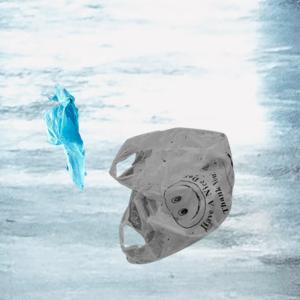plastic_bag: (108, 125, 201, 172)
